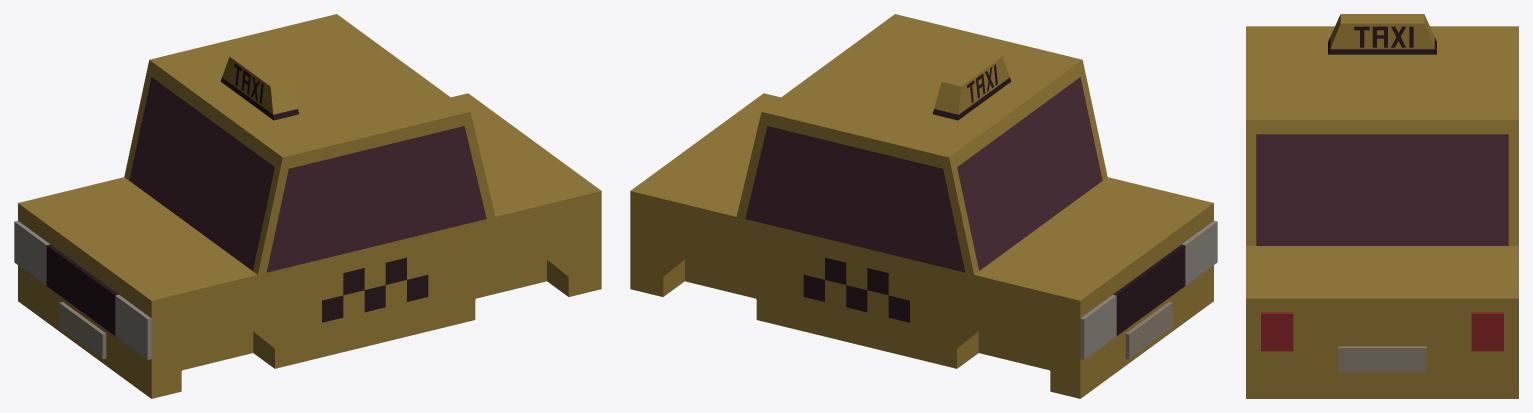
File: Sedan_Taxi.fbx
The picture shows the model from 3 angles, left to right: view 1: azimuth 30°, elevation 25°; view 2: azimuth 150°, elevation 25°; view 3: azimuth 270°, elevation 25°; orthographic projection. The views are drawn at different scales.
Parts seen in each view (by area): view 1: Sedan_Taxi, Sedan_TaxiLights; view 2: Sedan_Taxi, Sedan_TaxiLights; view 3: Sedan_Taxi, Sedan_TaxiLights.
Boxes of the visible parts, x1=… form: Sedan_Taxi: x1=18, y1=14, x2=601, y2=398; Sedan_TaxiLights: x1=14, y1=220, x2=151, y2=359; Sedan_Taxi: x1=630, y1=14, x2=1213, y2=398; Sedan_TaxiLights: x1=1080, y1=220, x2=1217, y2=359; Sedan_Taxi: x1=1246, y1=14, x2=1518, y2=398; Sedan_TaxiLights: x1=1261, y1=312, x2=1503, y2=351.
Bounding box in the file's own units: 3.66 × 1.82 × 1.85.
